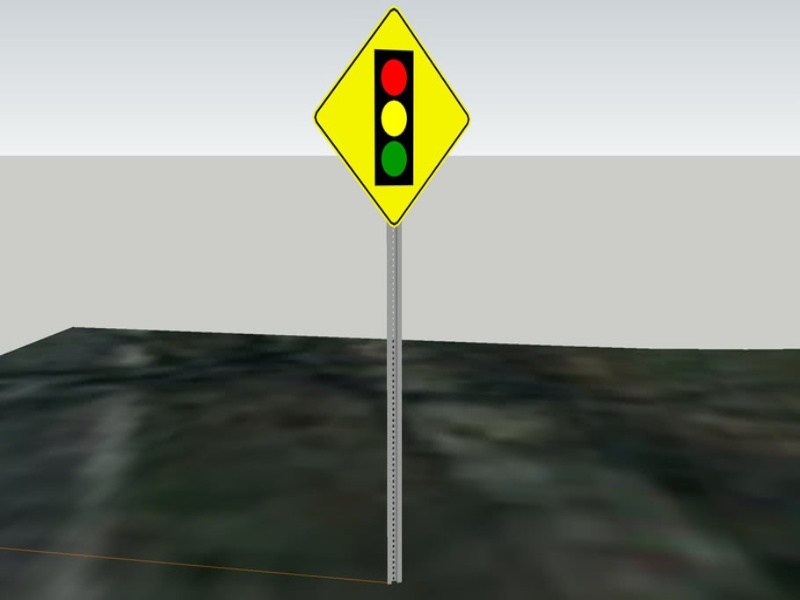traffic signal sign: (313, 1, 472, 230)
